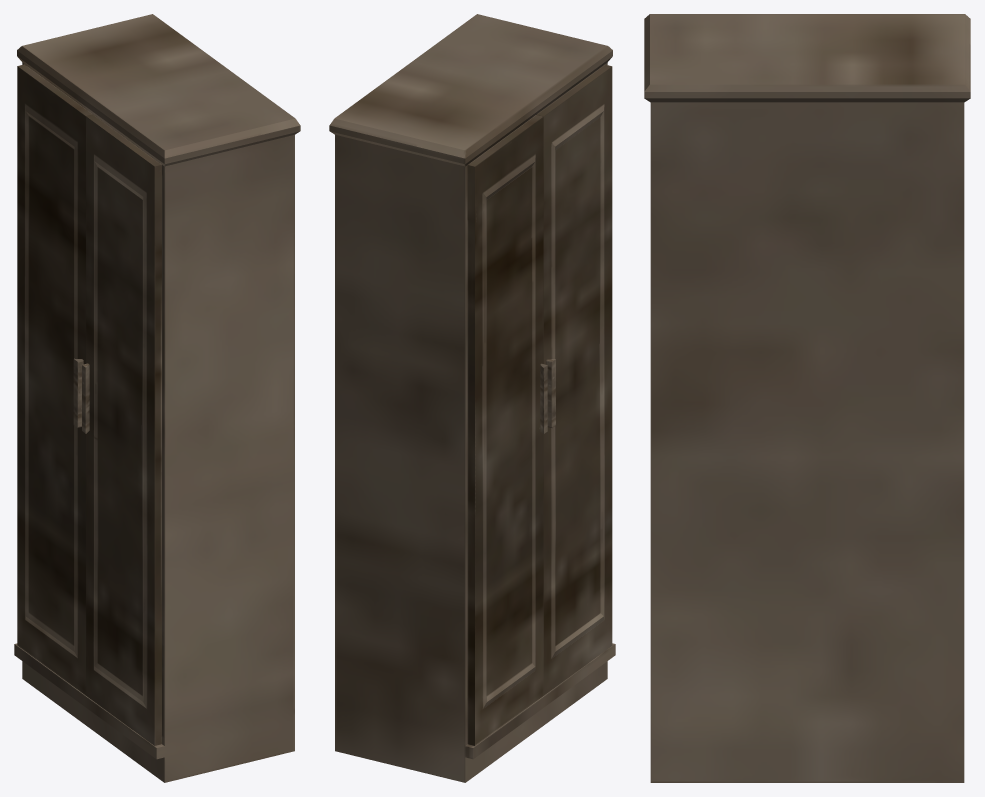
Rendered from fbx_Armario_EntraMulher.fbx.
The picture shows the model from 3 angles, left to right: view 1: azimuth 30°, elevation 25°; view 2: azimuth 150°, elevation 25°; view 3: azimuth 270°, elevation 25°; orthographic projection. The views are drawn at different scales.
Parts seen in each view (by area): view 1: polySurface7, pCube24, pCube25, pasted__pCube12, pasted__pCube14; view 2: polySurface7, pCube25, pCube24, pasted__pCube14, pasted__pCube12; view 3: polySurface7.
Boxes of the visible parts, x1,y1,x2,y2 form: polySurface7: [14, 14, 300, 782]; pCube24: [86, 114, 161, 745]; pCube25: [17, 64, 92, 695]; pasted__pCube12: [73, 358, 83, 427]; pasted__pCube14: [82, 363, 89, 433]; polySurface7: [329, 14, 615, 782]; pCube25: [467, 115, 543, 745]; pCube24: [536, 64, 612, 695]; pasted__pCube14: [546, 359, 555, 427]; pasted__pCube12: [540, 363, 547, 433]; polySurface7: [644, 14, 970, 782].
Bounding box in the file's own units: 0.4845 × 2 × 0.8465.
Materials: 1 (1 with a texture image).
